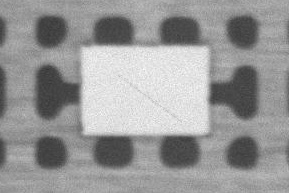DIE_CRACK: (177, 50, 271, 81)
